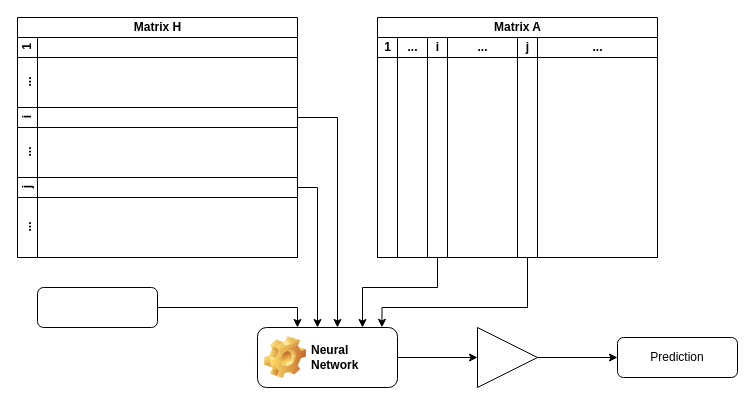
This 755x405 diagram has some shape labels left out. Each missing label, with the centre of its shape:
Original features: [97,307]
Softmax: [507,357]
